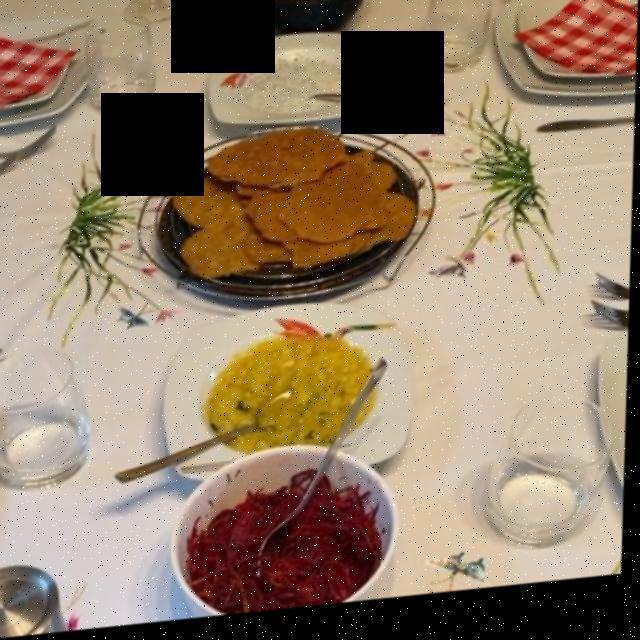beetroot: (197, 481, 357, 608)
mango: (213, 354, 377, 456)
